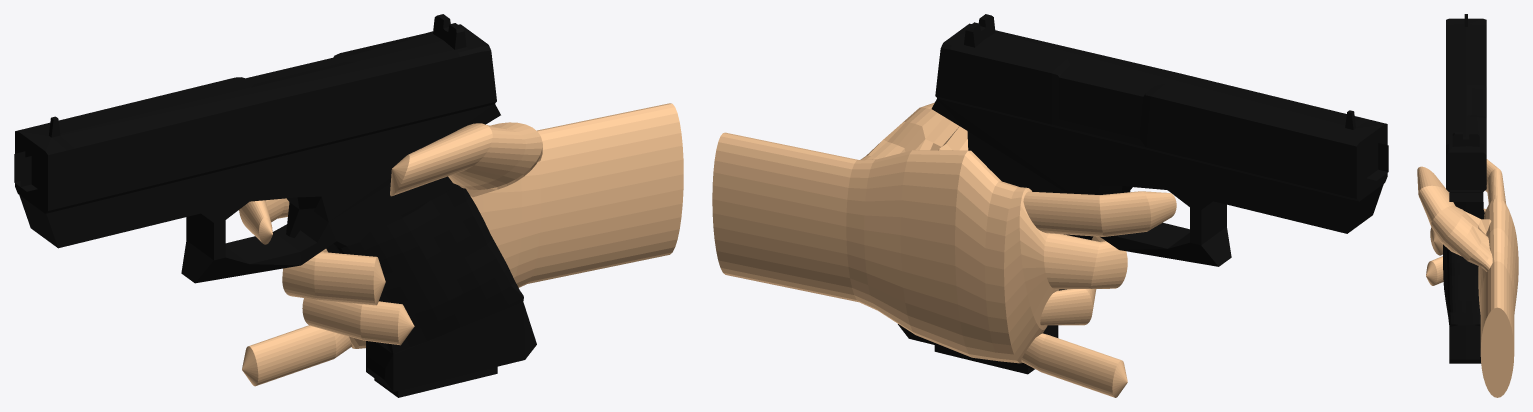
Rendered from Gun.fbx.
The picture shows the model from 3 angles, left to right: view 1: azimuth 30°, elevation 25°; view 2: azimuth 150°, elevation 25°; view 3: azimuth 270°, elevation 25°; orthographic projection. The views are drawn at different scales.
Parts seen in each view (by area): view 1: Cube, Cylinder, Cube.001; view 2: Cylinder, Cube.001, Cube; view 3: Cylinder, Cube.001, Cube.
Part boxes in pixels (<box>): Cube: <box>14,104,536,397</box>; Cylinder: <box>239,103,683,386</box>; Cube.001: <box>15,14,496,213</box>; Cylinder: <box>712,102,1176,397</box>; Cube.001: <box>935,14,1387,201</box>; Cube: <box>898,98,1388,374</box>; Cylinder: <box>1417,159,1518,397</box>; Cube.001: <box>1446,14,1486,191</box>; Cube: <box>1443,190,1484,363</box>.
Bounding box in the file's own units: 566 × 281 × 119.
